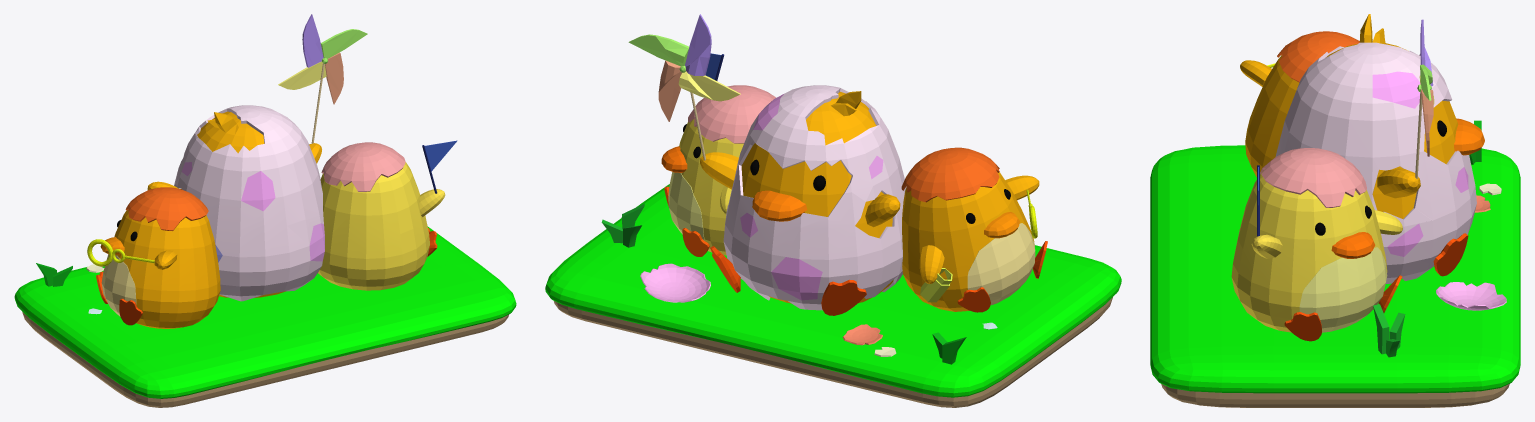
File: Chicken.fbx
3 renders of one model, left to right at view 1: azimuth 30°, elevation 25°; view 2: azimuth 150°, elevation 25°; view 3: azimuth 270°, elevation 25°, orthographic. The views are drawn at different scales.
Visible parts, largest first — view 1: chicken48, chicken53, chicken52, chicken54, chicken05, Object001, chicken39, Object002, chicken45, chicken18, chicken34, chicken33 (+8 smaller); view 2: chicken48, chicken53, chicken54, Object002, chicken05, chicken52, chicken39, chicken45, Object001, chicken22, chicken13, chicken08 (+19 smaller); view 3: chicken48, chicken53, chicken52, chicken05, Object001, chicken54, Object002, chicken39, chicken22, chicken00, chicken12, chicken01 (+10 smaller).
Part boxes in pixels (box(x1,y1,x2,y2)): chicken48: box(14, 226, 516, 398); chicken53: box(174, 105, 323, 301); chicken52: box(318, 162, 429, 290); chicken54: box(114, 210, 220, 328); chicken05: box(22, 311, 508, 407); Object001: box(321, 142, 405, 191); chicken39: box(125, 187, 208, 230); Object002: box(180, 111, 285, 297); chicken45: box(101, 254, 136, 316); chicken18: box(241, 171, 275, 211); chicken34: box(302, 14, 323, 67); chicken33: box(320, 29, 367, 58); chicken48: box(545, 184, 1121, 397); chicken53: box(723, 85, 906, 310); chicken54: box(902, 172, 1034, 311); Object002: box(741, 91, 893, 303); chicken05: box(554, 297, 1112, 407); chicken52: box(668, 119, 743, 255); chicken39: box(901, 147, 999, 202); chicken45: box(967, 223, 1035, 304); Object001: box(688, 85, 775, 143); chicken22: box(640, 263, 710, 302); chicken13: box(771, 257, 822, 300); chicken08: box(752, 190, 807, 221); chicken48: box(1150, 145, 1520, 393); chicken53: box(1275, 42, 1476, 283); chicken52: box(1231, 170, 1387, 332); chicken05: box(1161, 384, 1509, 407); Object001: box(1260, 148, 1366, 207); chicken54: box(1245, 55, 1299, 176); Object002: box(1325, 43, 1457, 278); chicken39: box(1277, 31, 1359, 82); chicken22: box(1436, 282, 1506, 310); chicken00: box(1372, 71, 1420, 108); chicken12: box(1377, 168, 1420, 198); chicken01: box(1373, 304, 1405, 357).
Bounding box in the file's own units: 9.18 × 6.02 × 6.1.
